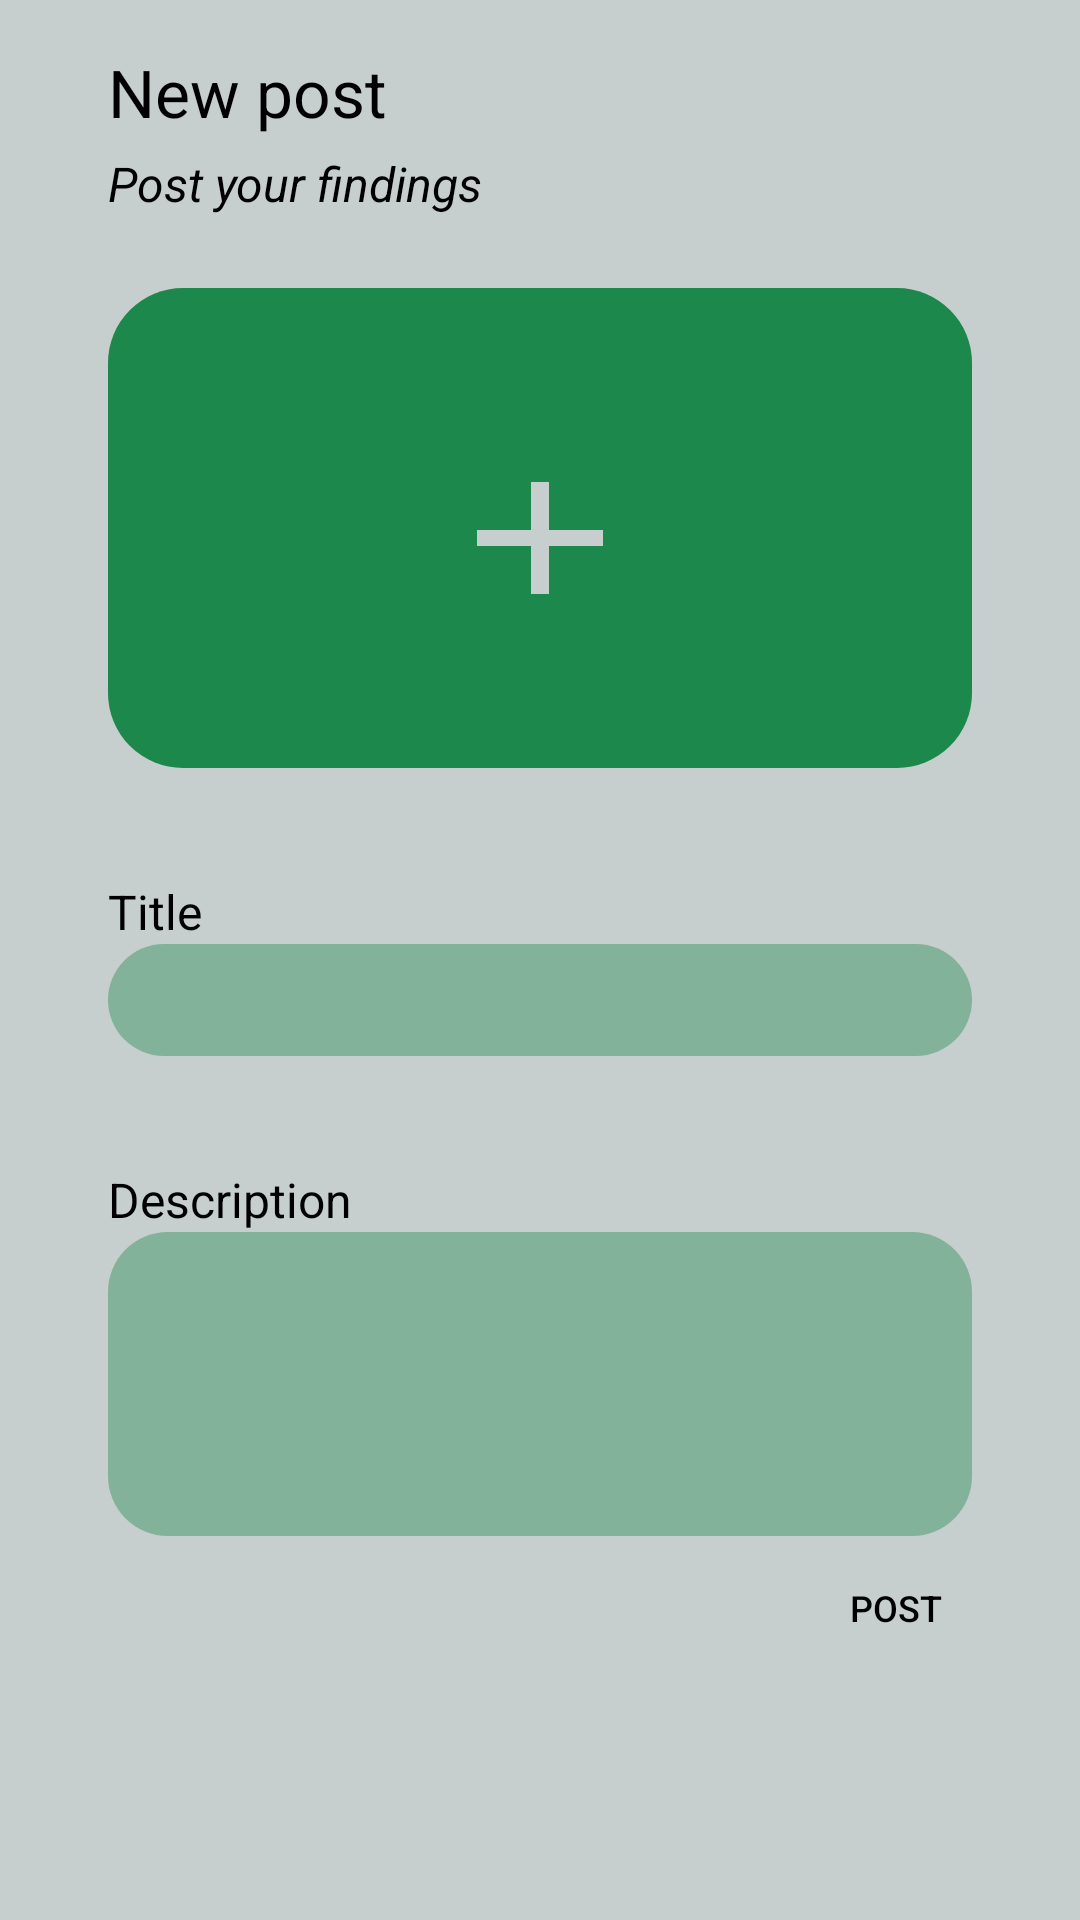

Named icons in this screenshot (1080w x 1920h) and their bounding boxes, bbox=(x1, y1, x2, y2):
plus: bbox=(477, 482, 603, 594)
